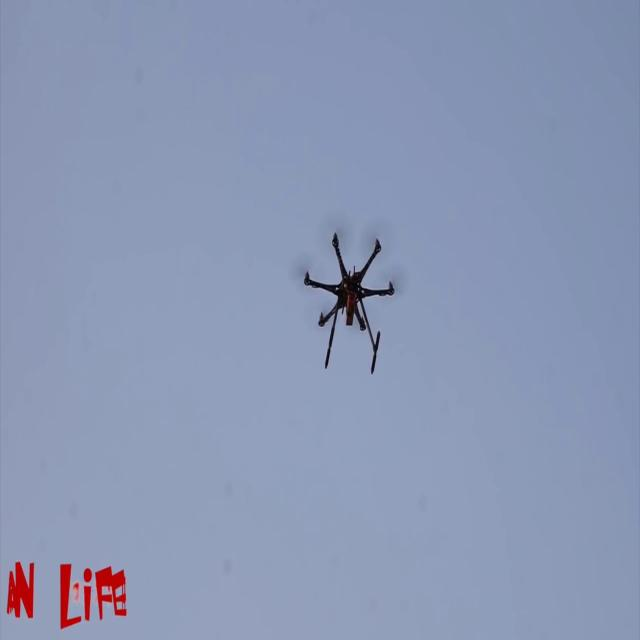drone: (294, 208, 406, 390)
